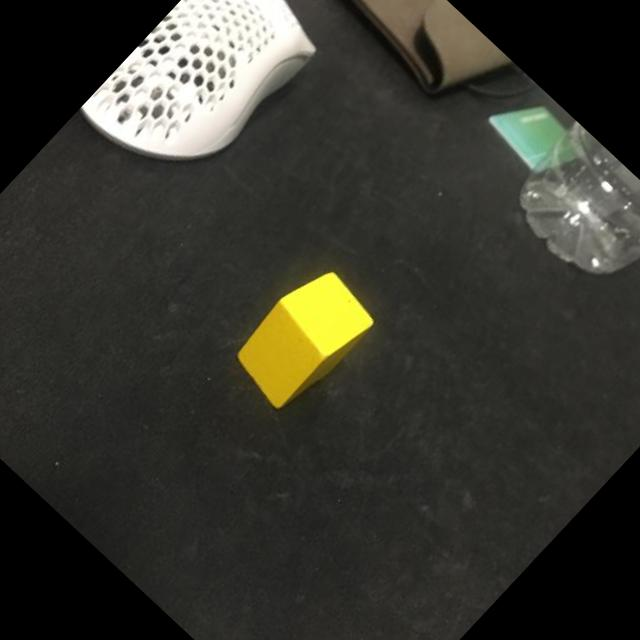yellow: (222, 256, 382, 419)
